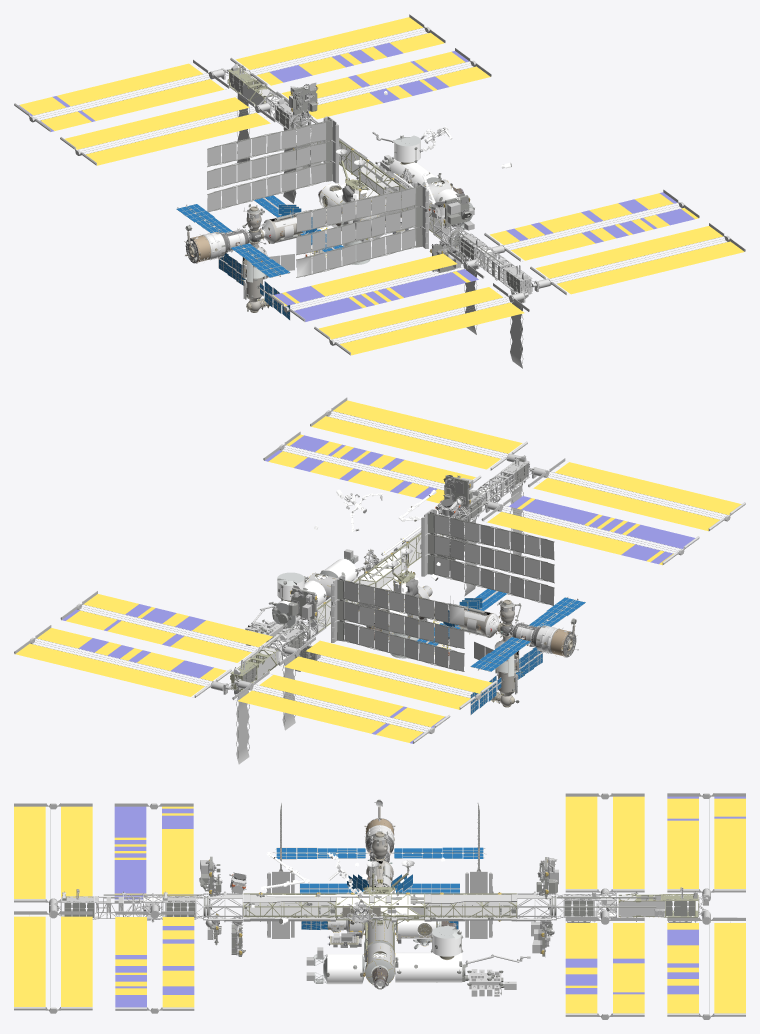
Rendered from iss.glb.
The picture shows the model from 3 angles, top to bottom: view 1: azimuth 30°, elevation 25°; view 2: azimuth 150°, elevation 25°; view 3: azimuth 270°, elevation 25°; orthographic projection. The views are drawn at different scales.
Visible parts, largest first — view 1: paso-ani_w_goldcells, pasi-ani_w_goldcells, papo-ani_w_goldcells, papi-ani_w_goldcells, tcs-s-ani, tcs-p-ani, sm-ext, MLM, s6-ani, fgb-ext_layers, jem_layers, p6-ani (+6 smaller); view 2: papo-ani_w_goldcells, paso-ani_w_goldcells, papi-ani_w_goldcells, pasi-ani_w_goldcells, tcs-p-ani, tcs-s-ani, sm-ext, MLM, p6-ani, jem_layers, fgb-ext_layers, s6-ani (+7 smaller); view 3: papi-ani_w_goldcells, papo-ani_w_goldcells, paso-ani_w_goldcells, pasi-ani_w_goldcells, jem_layers, sm-ext, p1-ani, s1-ani, s0-ani, fgb-ext_layers, p6-ani, columbus (+20 smaller).
Part boxes in pixels (x1,y1,x2,y2): paso-ani_w_goldcells: (314,223,745,355); pasi-ani_w_goldcells: (268,189,699,321); papo-ani_w_goldcells: (14,14,445,131); papi-ani_w_goldcells: (60,48,491,165); tcs-s-ani: (296,182,429,277); tcs-p-ani: (207,116,339,212); sm-ext: (176,204,290,277); MLM: (218,243,294,320); s6-ani: (484,252,539,368); fgb-ext_layers: (254,195,343,253); jem_layers: (372,131,441,186); p6-ani: (221,63,273,163); papo-ani_w_goldcells: (14,625,450,743); paso-ani_w_goldcells: (310,397,745,531); papi-ani_w_goldcells: (60,591,496,709); pasi-ani_w_goldcells: (263,431,699,565); tcs-p-ani: (330,575,464,671); tcs-s-ani: (420,509,554,605); sm-ext: (470,596,585,671); MLM: (470,636,542,714); p6-ani: (223,647,278,764); jem_layers: (245,572,326,646); fgb-ext_layers: (416,588,507,646); s6-ani: (481,455,536,555); papi-ani_w_goldcells: (565,793,644,1019); papo-ani_w_goldcells: (667,793,745,1019); paso-ani_w_goldcells: (14,803,92,1013); pasi-ani_w_goldcells: (114,803,194,1013); jem_layers: (393,926,530,996); sm-ext: (273,799,486,865); p1-ani: (424,892,518,921); s1-ani: (243,892,335,921); s0-ani: (336,892,424,950); fgb-ext_layers: (299,860,459,893); p6-ani: (618,887,710,922); columbus: (306,947,366,984).
Bounding box in the file's own units: 75.78 × 28.96 × 109.
